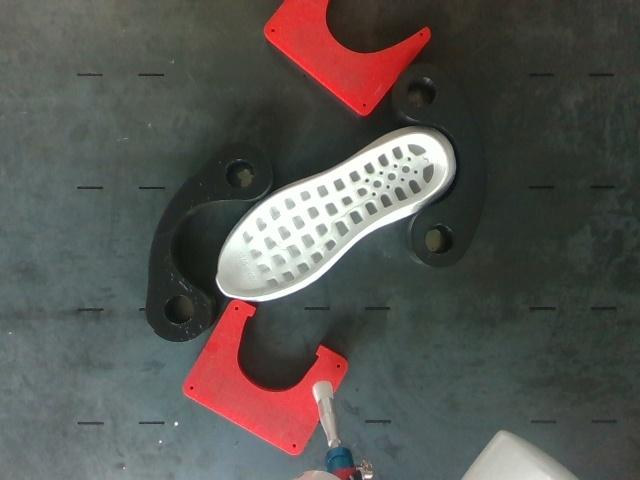shoes: (218, 134, 447, 297)
